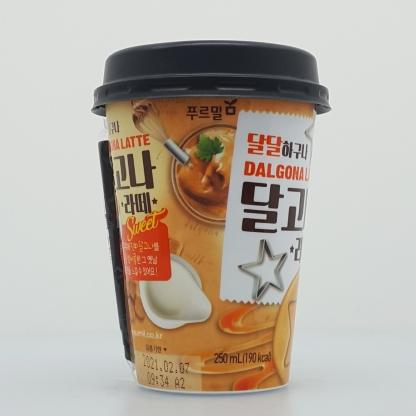---------250ML: (91, 40, 332, 395)
